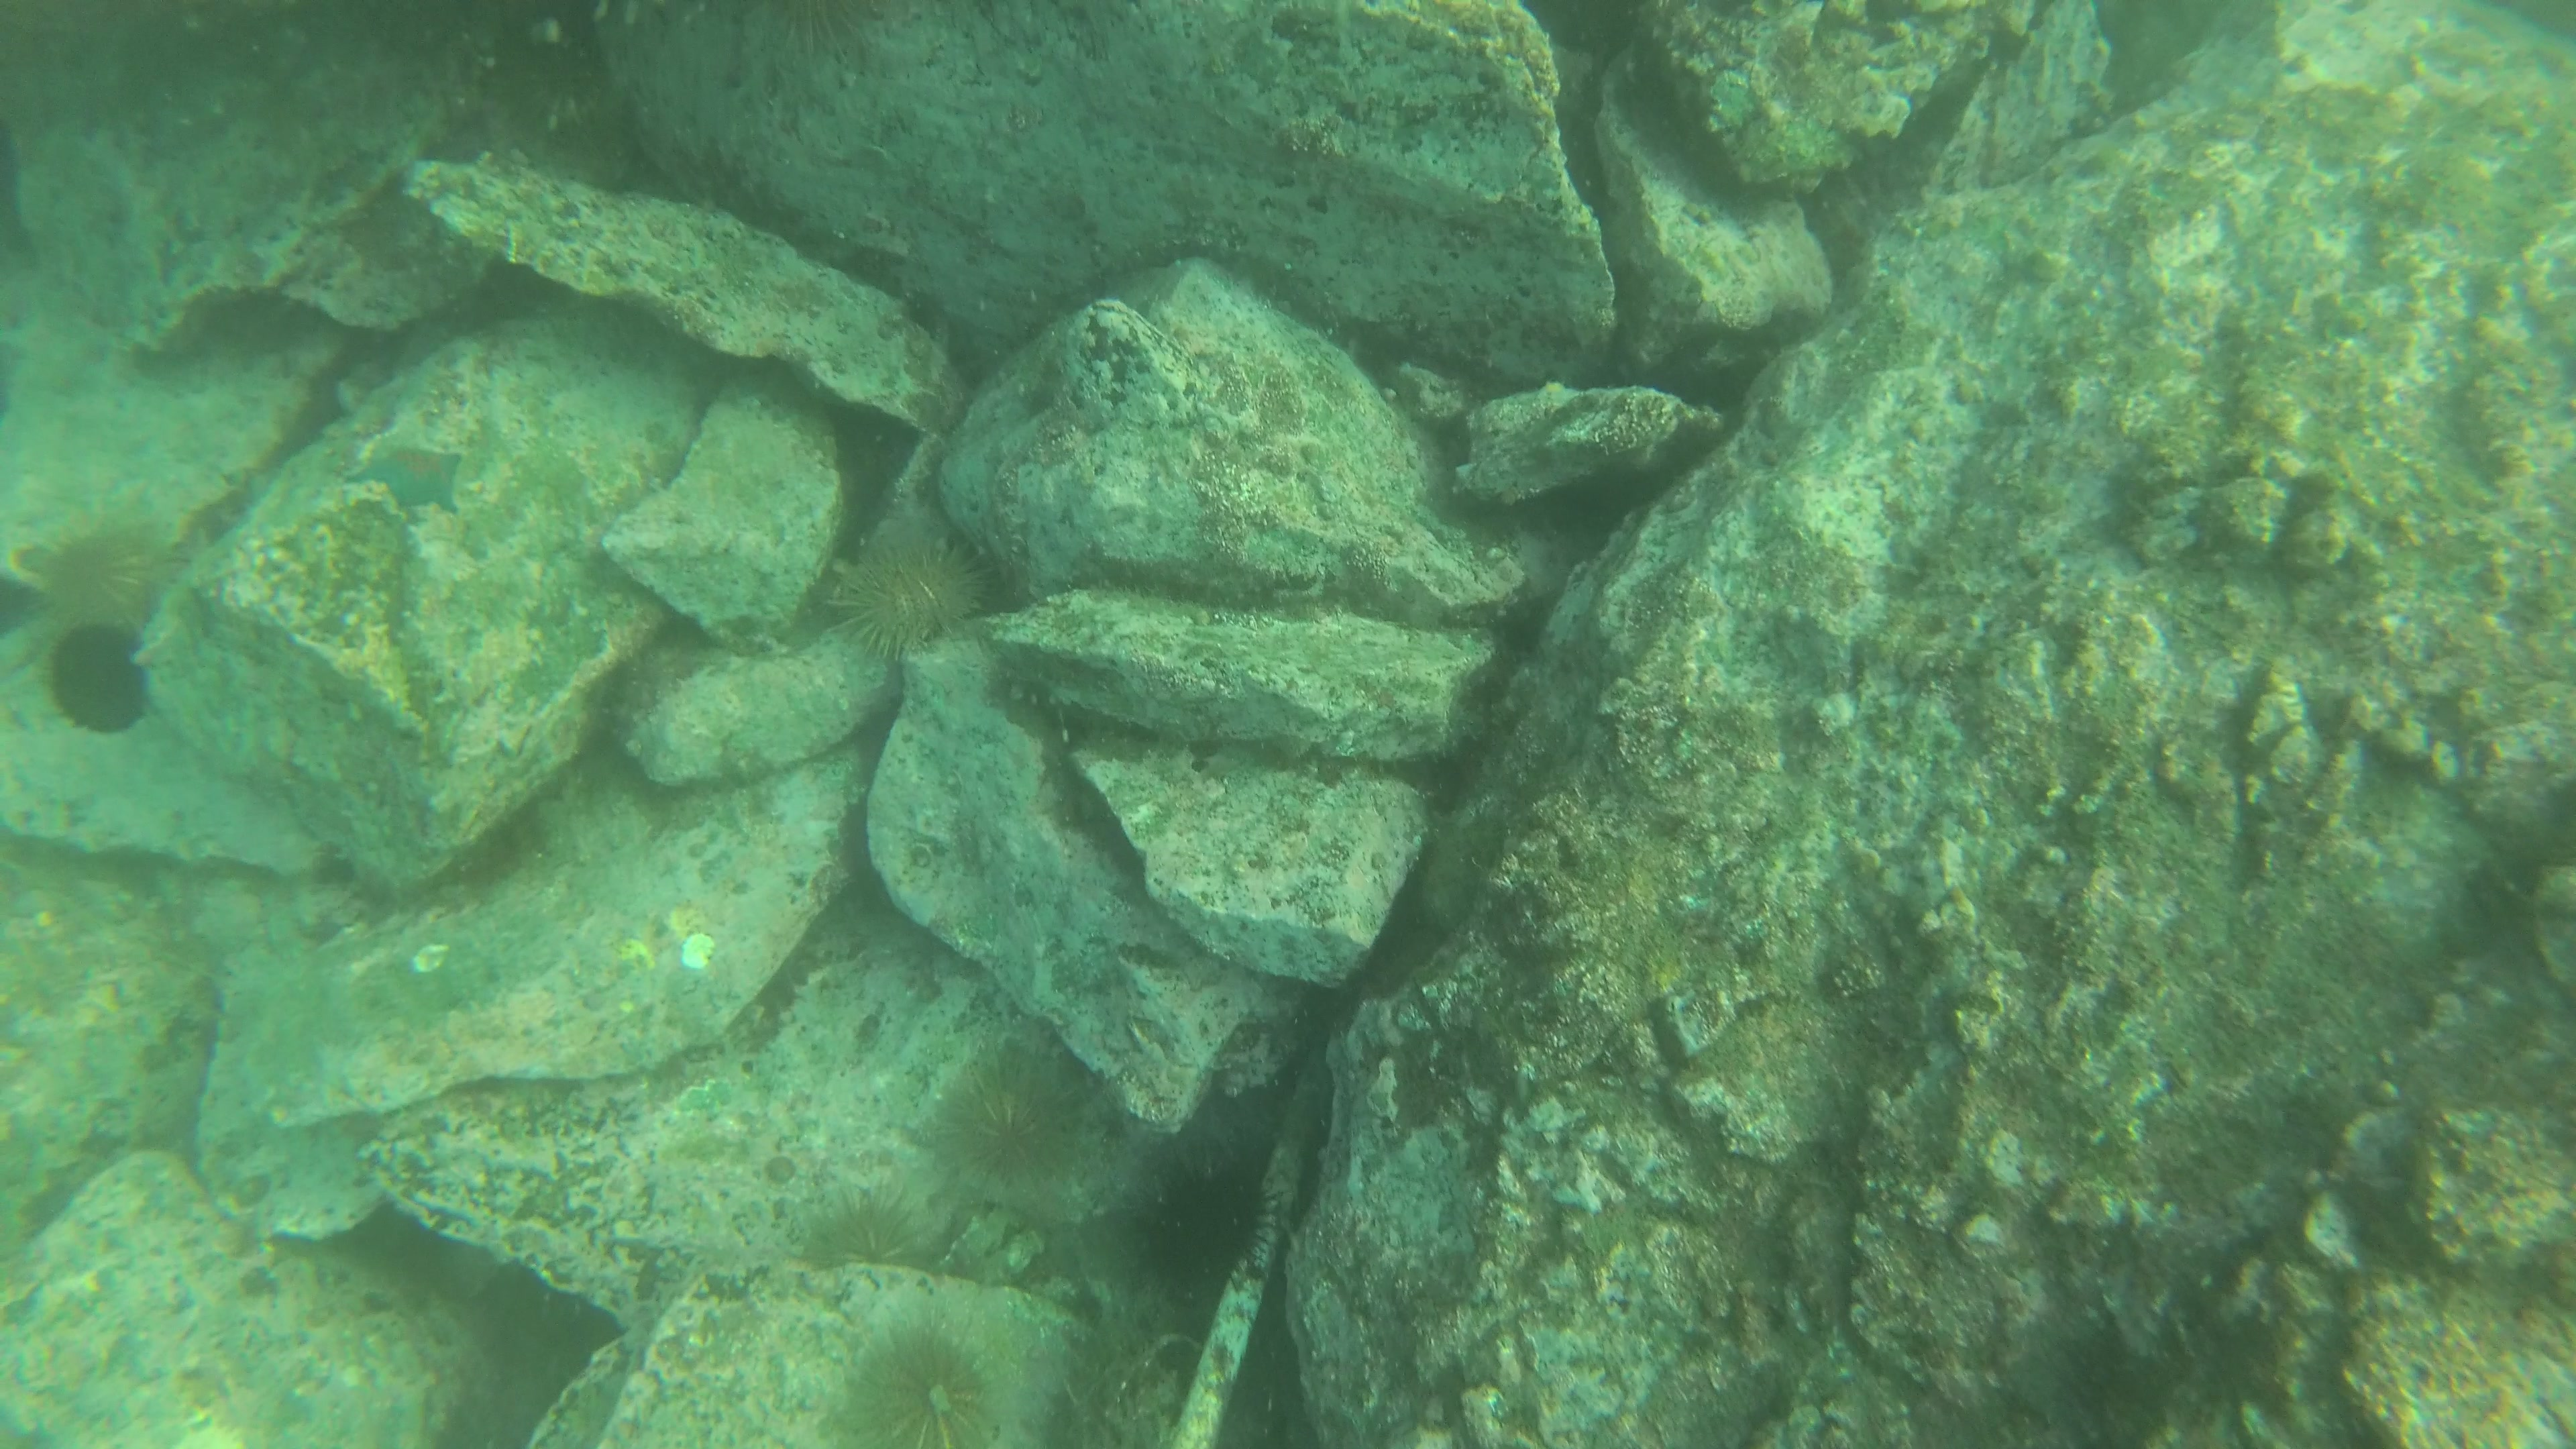echinus: (947, 1046, 1108, 1196), (816, 538, 982, 653), (860, 1338, 1016, 1447), (48, 628, 154, 736), (805, 1196, 943, 1270)
starfish: (352, 444, 479, 511)
